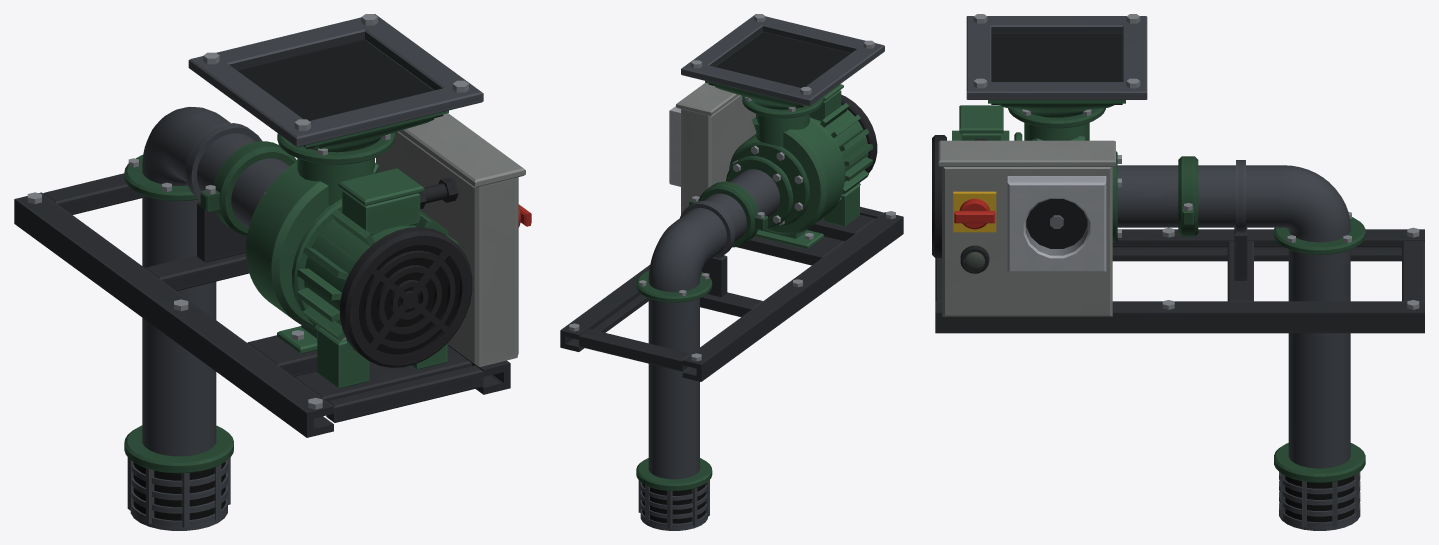
The model's file is item.obj.
3 views of the same model, side by side, from view 1: azimuth 30°, elevation 25°; view 2: azimuth 150°, elevation 25°; view 3: azimuth 270°, elevation 25° (orthographic). The views are drawn at different scales.
Parts seen in each view (by area): view 1: body_starter_box, body_suction_pipe, body_channels, body_fport_plate, body_cross, body_fport_throat, body_volute, body_grille_rings, body_fan_cowl, body_terminal_box, body_strainer_bands, body_grille (+18 smaller); view 2: body_suction_pipe, body_channels, body_fport_plate, body_starter_box, body_cross, body_volute, body_fport_throat, body_elbow, body_strainer_bands, body_cover, body_fins, body_suction_flange (+16 smaller); view 3: body_suction_pipe, body_channels, body_starter_box, body_fport_plate, body_pport_plate, body_fport_throat, body_elbow, body_cross, body_strainer_bands, body_pport_socket, body_strainer_flange, body_coupling (+10 smaller).
Part boxes in pixels (x1,y1,x2,y2): body_starter_box: (376, 113, 525, 366); body_suction_pipe: (142, 112, 289, 456); body_channels: (14, 192, 510, 437); body_fport_plate: (188, 14, 483, 147); body_cross: (43, 173, 483, 422); body_fport_throat: (238, 40, 443, 148); body_volute: (246, 161, 378, 330); body_grille_rings: (355, 240, 466, 360); body_fan_cowl: (340, 227, 472, 367); body_terminal_box: (338, 168, 424, 235); body_strainer_bands: (127, 457, 230, 528); body_grille: (359, 245, 459, 354); body_suction_pipe: (648, 169, 779, 479); body_channels: (560, 212, 903, 381); body_fport_plate: (681, 14, 884, 106); body_starter_box: (676, 82, 755, 214); body_cross: (579, 206, 883, 371); body_volute: (729, 117, 843, 234); body_fport_throat: (708, 32, 850, 107); body_elbow: (648, 219, 711, 292); body_strainer_bands: (638, 480, 709, 528); body_cover: (732, 141, 809, 226); body_fins: (820, 103, 872, 200); body_suction_flange: (726, 156, 793, 227); body_suction_pipe: (1117, 165, 1350, 468); body_channels: (935, 229, 1424, 333); body_starter_box: (938, 140, 1115, 316); body_fport_plate: (966, 16, 1147, 99); body_pport_plate: (1007, 176, 1106, 271); body_fport_throat: (991, 34, 1122, 104); body_elbow: (1283, 165, 1350, 242); body_cross: (935, 241, 1424, 301); body_strainer_bands: (1279, 472, 1360, 527); body_pport_socket: (1026, 199, 1087, 248); body_strainer_flange: (1274, 443, 1365, 482); body_coupling: (1178, 156, 1198, 236).
Size of the model in its own units: 0.875 by 1.96 by 1.88.
